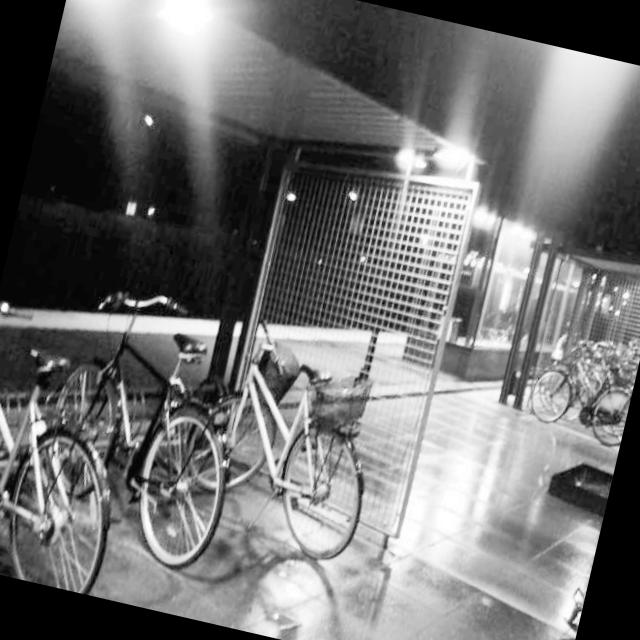Bicycle: (34, 222, 312, 605), (193, 273, 417, 591), (501, 310, 640, 473)
